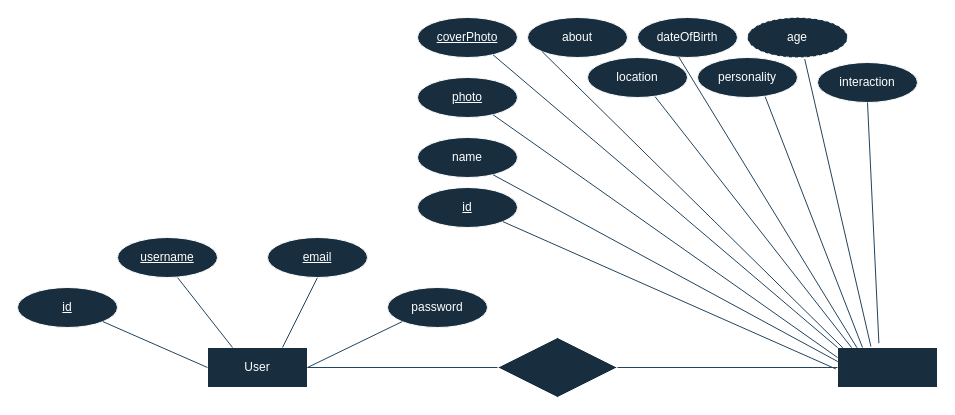
Some shapes in this 955 by 415 pixel diagram are drawn without their labels. The centre of each missing label's shape, as x and y in pixels:
"has" goes at pixel 557 367.
"Profile" goes at pixel 887 367.
